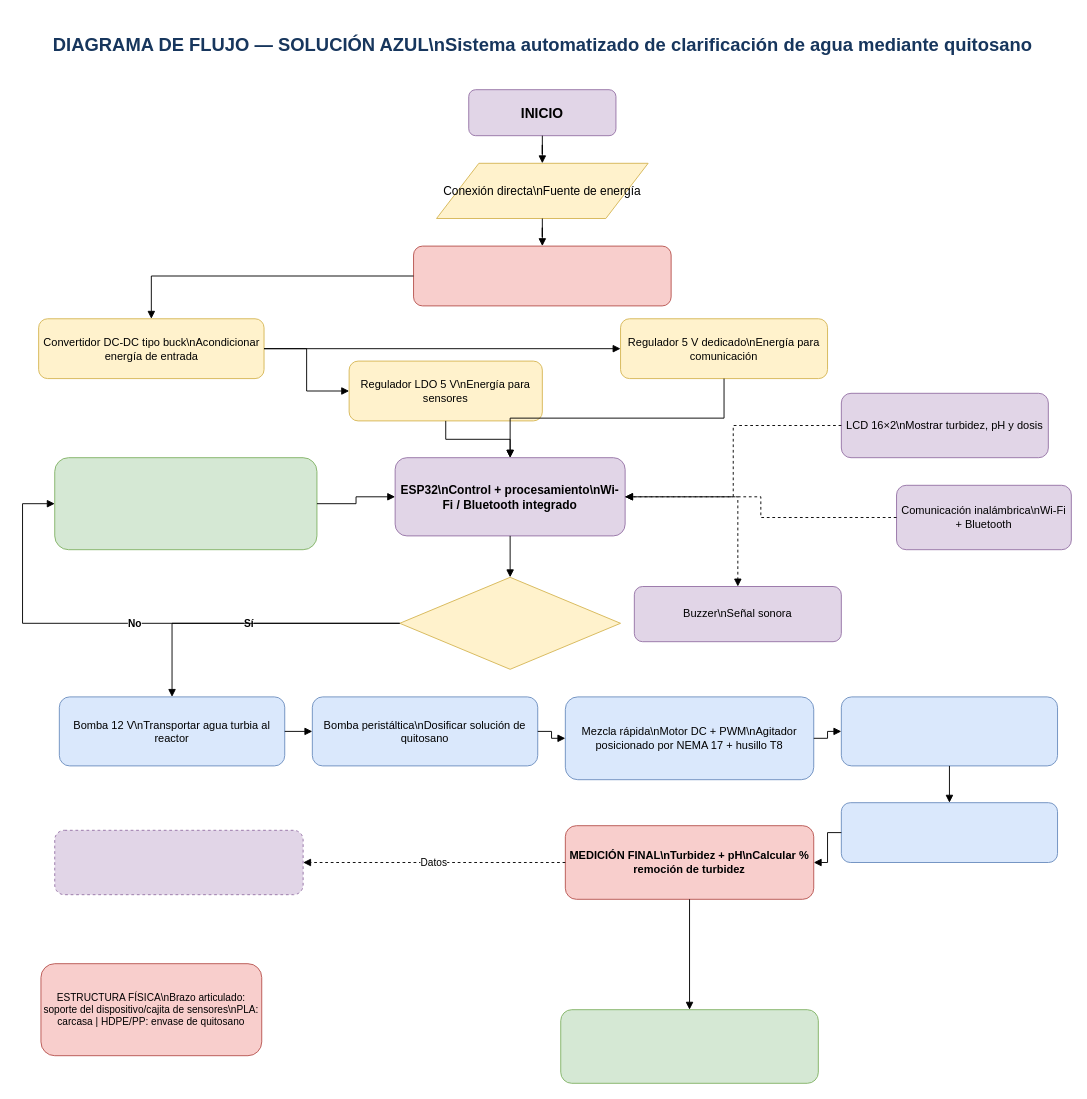
The diagram is 1087 pixels wide and 1099 high, and some of its shapes have lost their labels. Each missing label, with the box of its shape:
AGUA CLARIFICADA\nSalida del proceso\n⚠ No implica potabilidad: (560, 1009, 818, 1083)
FLOCULACIÓN\nAgitación controlada\nCrecimiento de flóculos: (840, 696, 1058, 766)
Interruptor basculante (rocker)\nEncendido del equipo: (413, 245, 671, 306)
Retroalimentación\nResultados → ajuste experimental de dosis: (54, 829, 303, 895)
SEDIMENTACIÓN\nSeparación sólido–líquido: (840, 802, 1058, 862)
SENSORES\n• Turbidez 0–1000 NTU\n• pH con sonda\n• Nivel XKC-Y25: (54, 457, 317, 550)
¿Muestra lista y nivel adecuado?: (399, 576, 621, 669)
